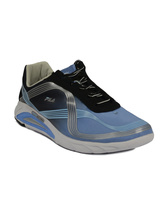shoes: (15, 59, 158, 155)
